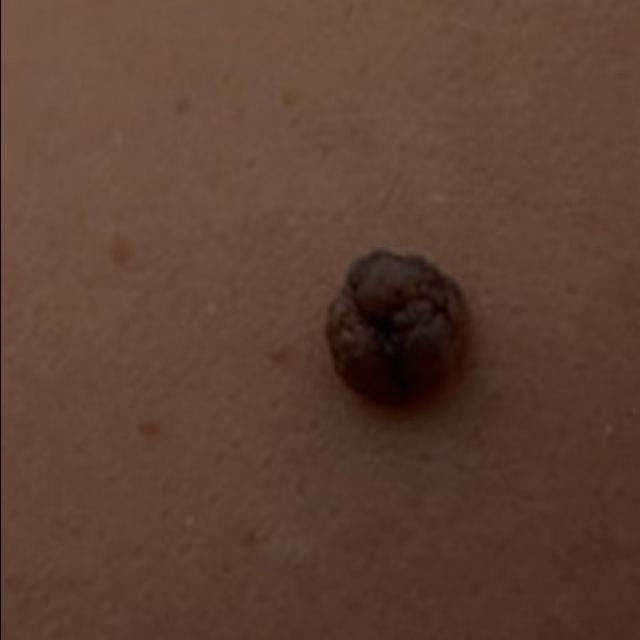wart: (292, 222, 516, 454)
